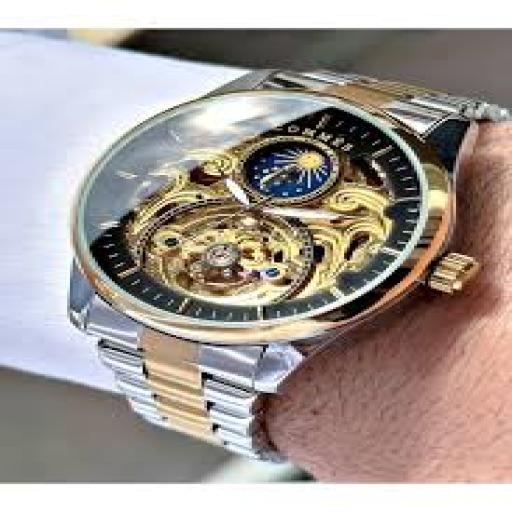KolSaati: (32, 37, 484, 456)
